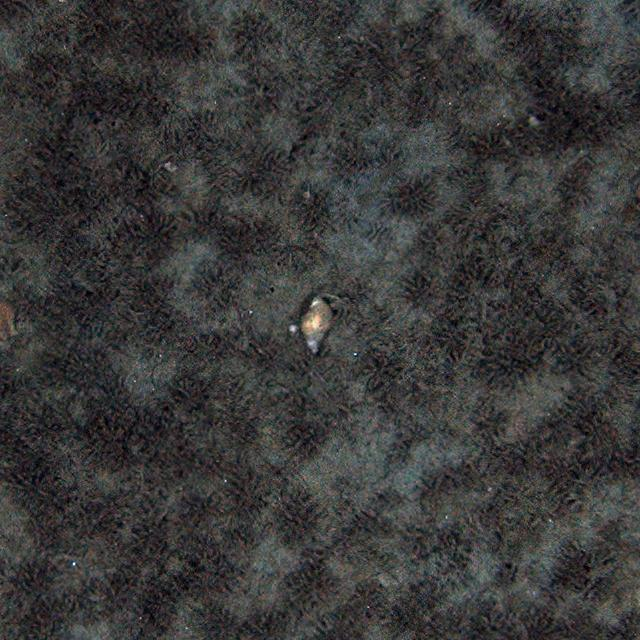whelk: (300, 294, 334, 354)
